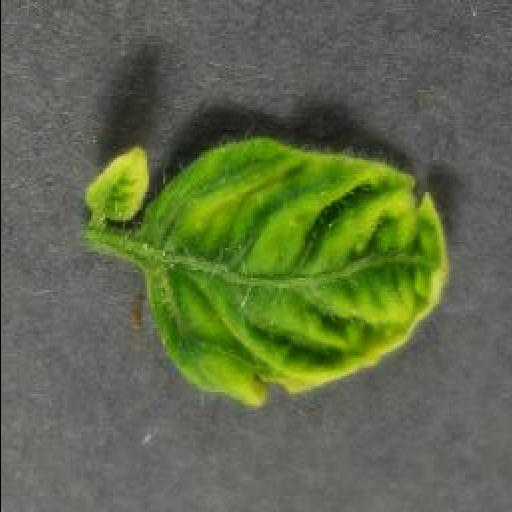disease_tomato: (138, 136, 450, 408), (80, 148, 148, 222)
